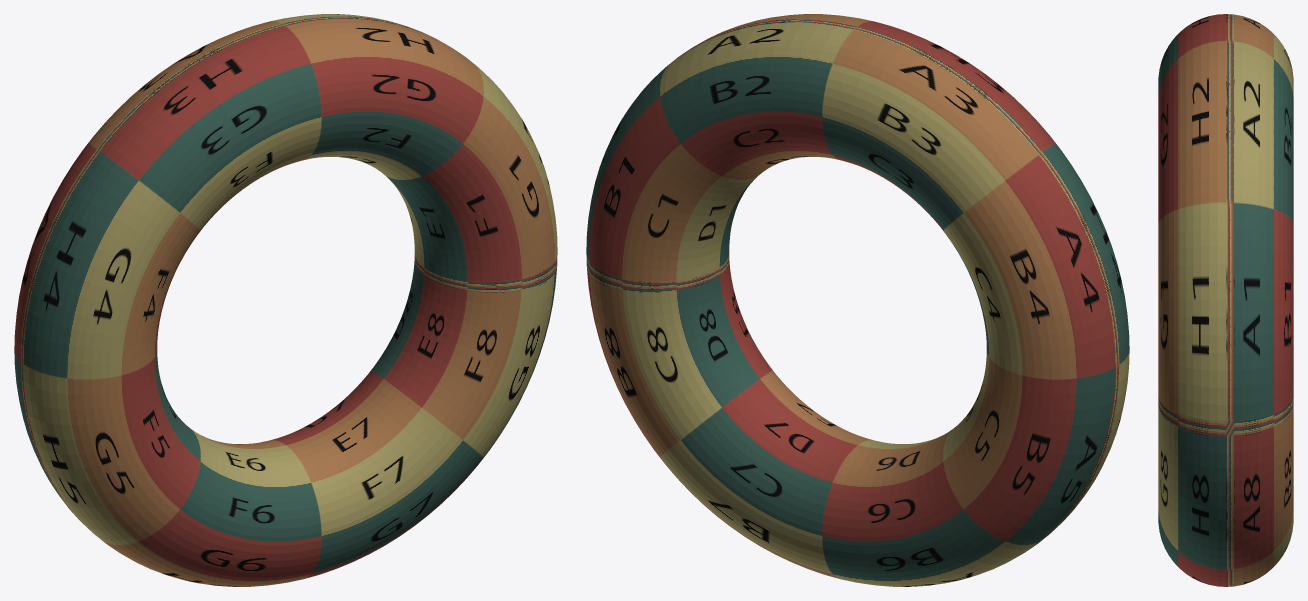
The model's file is texture_torus_R1_r2.glb.
3 views of the same model, side by side, from view 1: azimuth 30°, elevation 25°; view 2: azimuth 150°, elevation 25°; view 3: azimuth 270°, elevation 25° (orthographic). The views are drawn at different scales.
Visible parts, largest first — view 1: world; view 2: world; view 3: world.
Boxes of the visible parts, box(x1,y1,x2,y2) form: world: box(14, 14, 557, 586); world: box(586, 14, 1129, 586); world: box(1158, 14, 1293, 586).
Bounding box in the file's own units: 16 × 16 × 3.77.
1 material, 1 textured.
